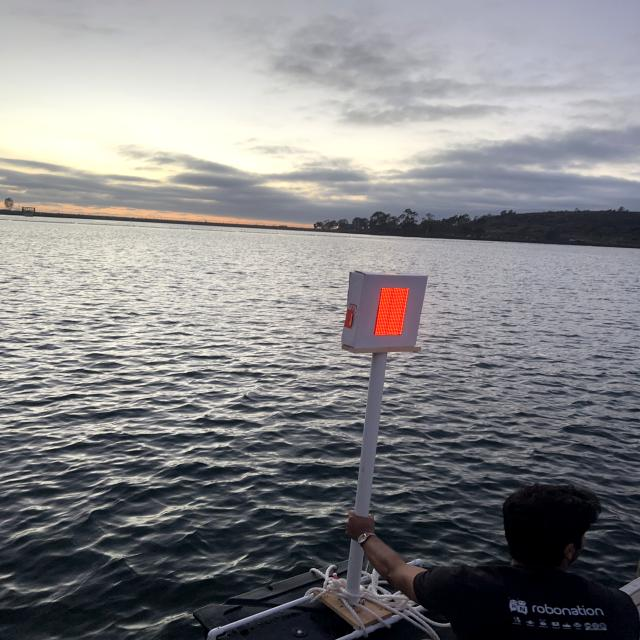led: (365, 273, 416, 348)
